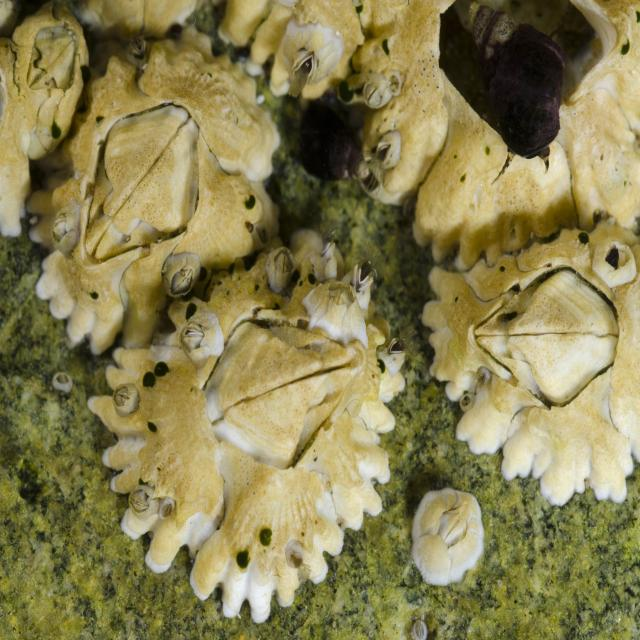barnacles: (103, 237, 408, 628), (421, 219, 640, 507), (66, 43, 268, 298), (15, 2, 88, 152), (404, 482, 499, 591), (274, 0, 356, 103), (302, 277, 371, 355), (174, 310, 228, 364), (367, 119, 411, 173), (596, 243, 638, 290), (47, 198, 80, 256), (268, 247, 296, 299), (363, 69, 391, 114), (109, 380, 140, 418), (127, 482, 156, 516)
